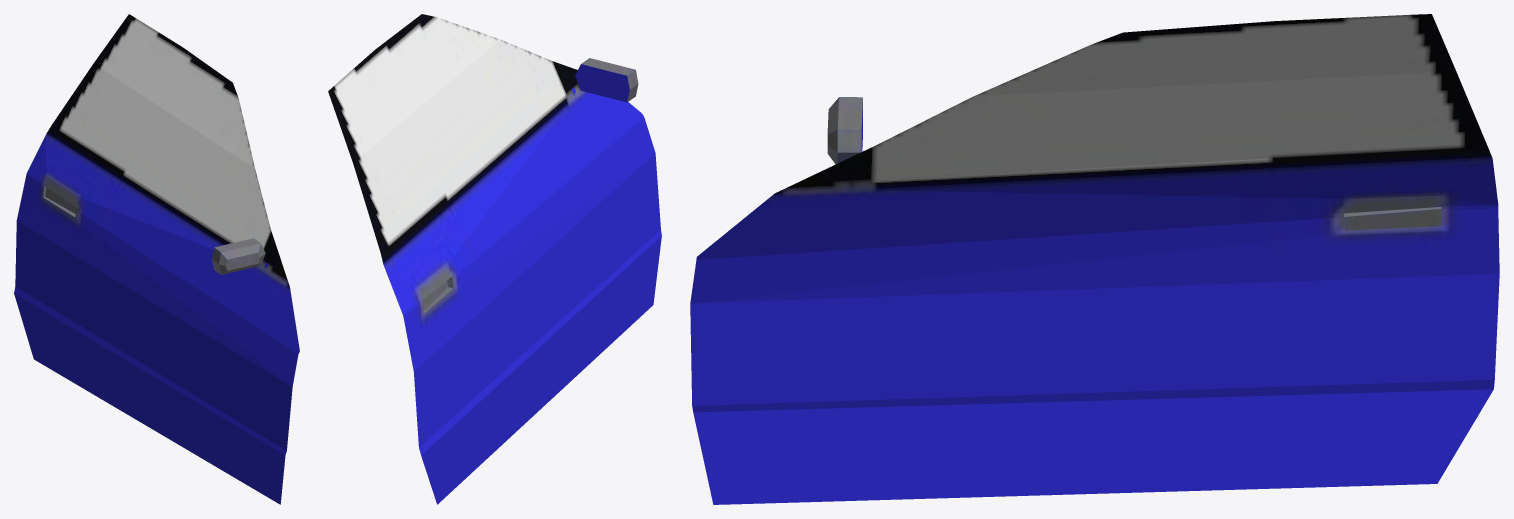
File: rightdoor1.obj
3 views of the same model, side by side, from view 1: azimuth 30°, elevation 25°; view 2: azimuth 150°, elevation 25°; view 3: azimuth 270°, elevation 25° (orthographic). The views are drawn at different scales.
Parts seen in each view (by area): view 1: rightdoor; view 2: rightdoor; view 3: rightdoor.
Part boxes in pixels (box(x1,y1,x2,y2)): rightdoor: box(14, 14, 299, 504); rightdoor: box(328, 14, 661, 504); rightdoor: box(690, 14, 1499, 504).
Size of the model in its own units: 0.2471 by 0.7008 by 0.9398.
